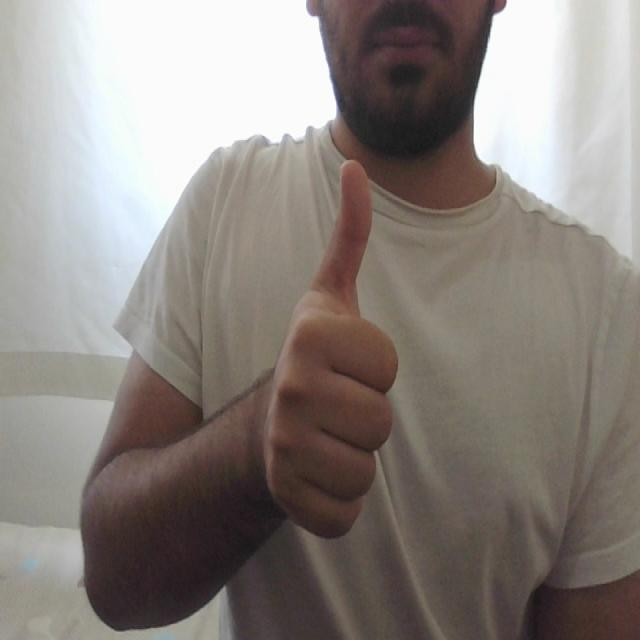Tamam: (259, 156, 412, 548)
